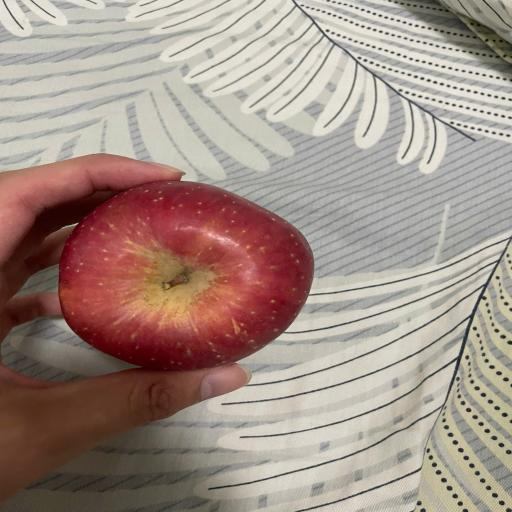apple: (59, 181, 314, 371)
